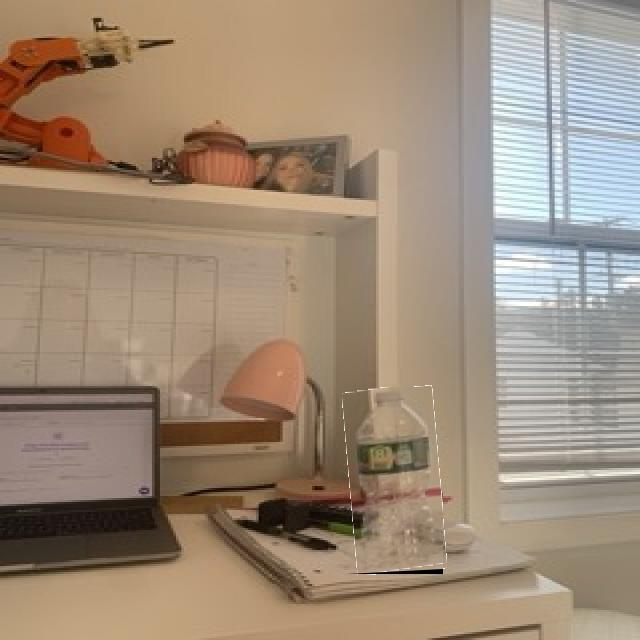water_bottle: (346, 387, 443, 574)
